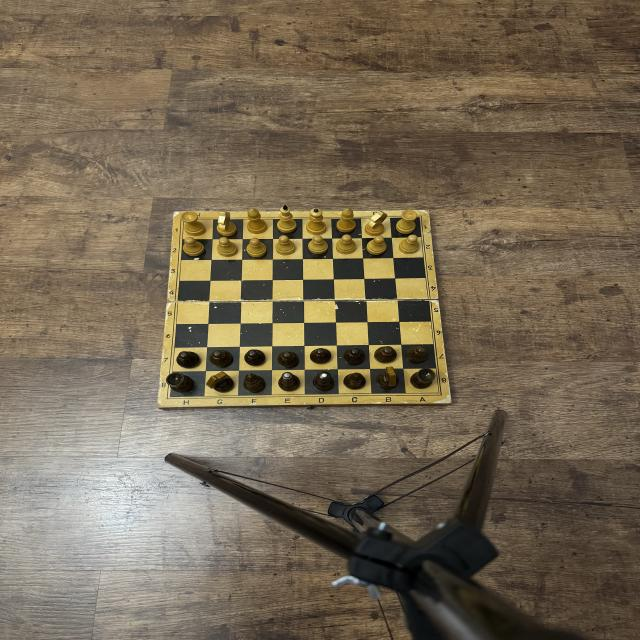black-bishop: (243, 373, 266, 393), (343, 372, 366, 390)
black-king: (278, 372, 301, 392)
black-knight: (206, 371, 235, 393), (376, 366, 400, 389)
black-pawn: (176, 351, 202, 368), (210, 349, 233, 368), (374, 346, 398, 364), (244, 349, 266, 367), (277, 350, 299, 368), (310, 347, 332, 365), (344, 348, 366, 366), (406, 346, 428, 363)
black-queen: (312, 371, 334, 391)
black-rook: (165, 372, 195, 393), (409, 368, 436, 390)
white-bishop: (247, 209, 267, 234), (336, 208, 356, 233)
white-king: (277, 204, 297, 233)
white-knight: (364, 210, 388, 237), (217, 211, 237, 237)
white-pawn: (183, 237, 205, 257), (217, 237, 238, 257), (246, 238, 267, 258), (275, 235, 295, 255), (308, 235, 328, 255), (336, 234, 356, 254), (399, 234, 419, 254), (366, 236, 387, 255)
white-queen: (306, 208, 326, 235)
white-rook: (181, 212, 206, 236), (395, 210, 417, 234)
